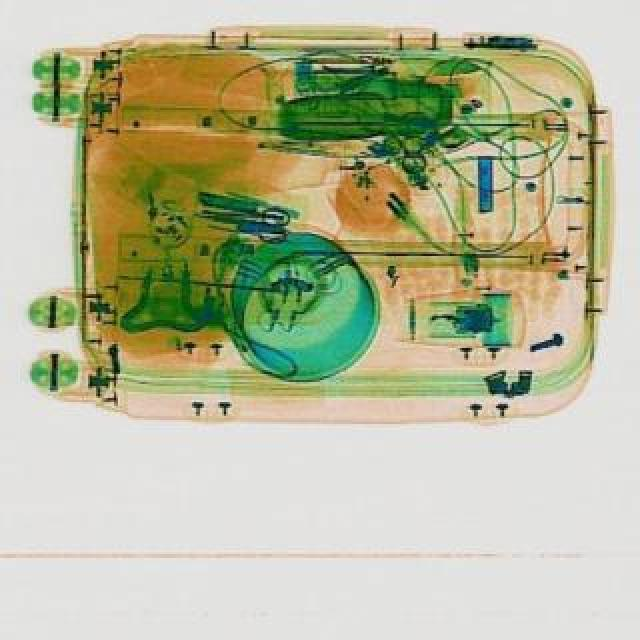pliers: (200, 198, 292, 246)
